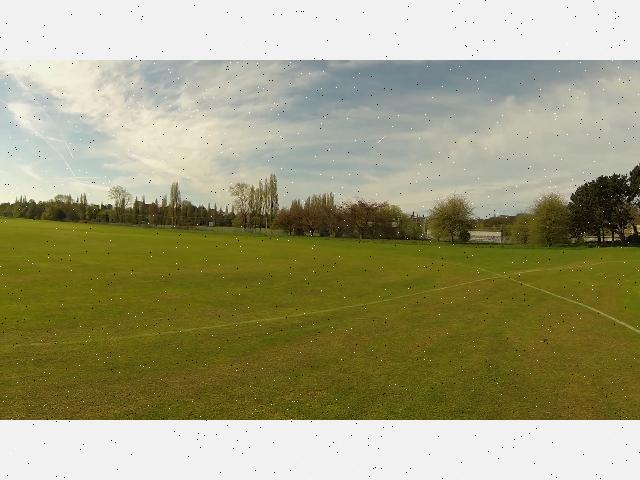Anti-Drone: (372, 130, 388, 146)
